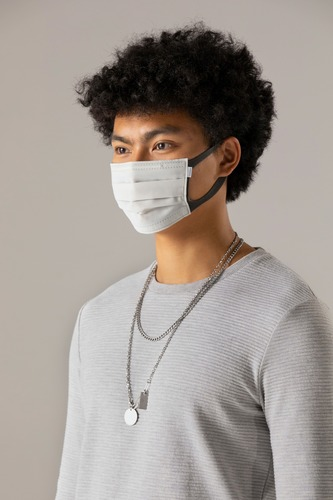with_mask: (108, 118, 212, 230)
